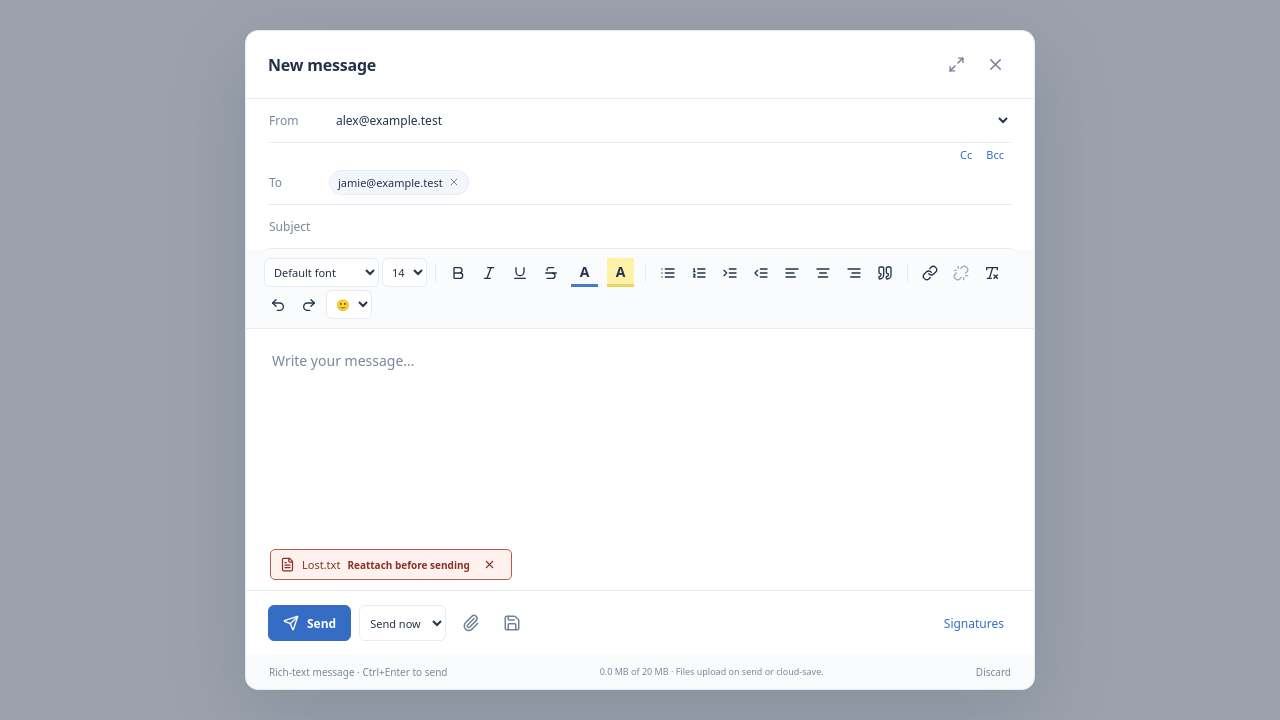
Test: composer regression review › rejects unavailable restored attachments before starting a send countdown
This screenshot has width=1280, height=720.
Expected: the text "Reattach before sending" is shown, [347,558,470,572]
Click the button "Send": (310, 623) [268,605,351,641]
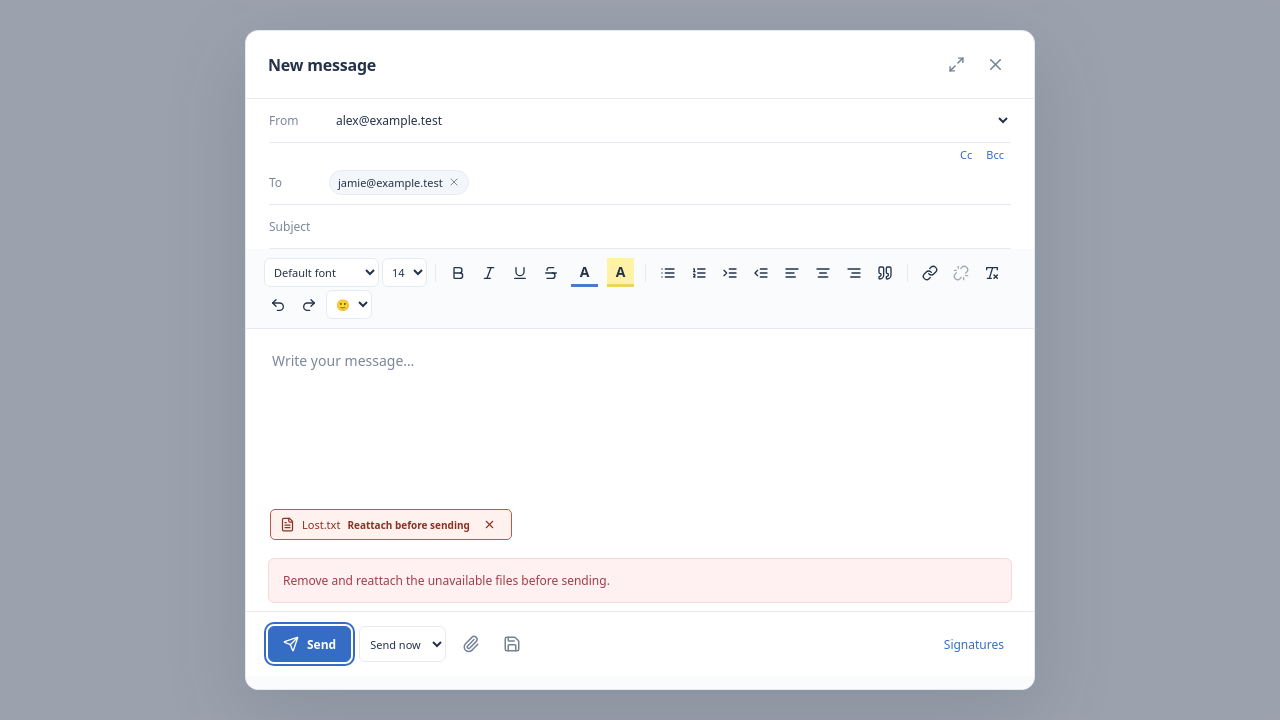
Expected: the text "Remove and reattach the unavailable files before sending." is shown, [268,558,1012,603]
